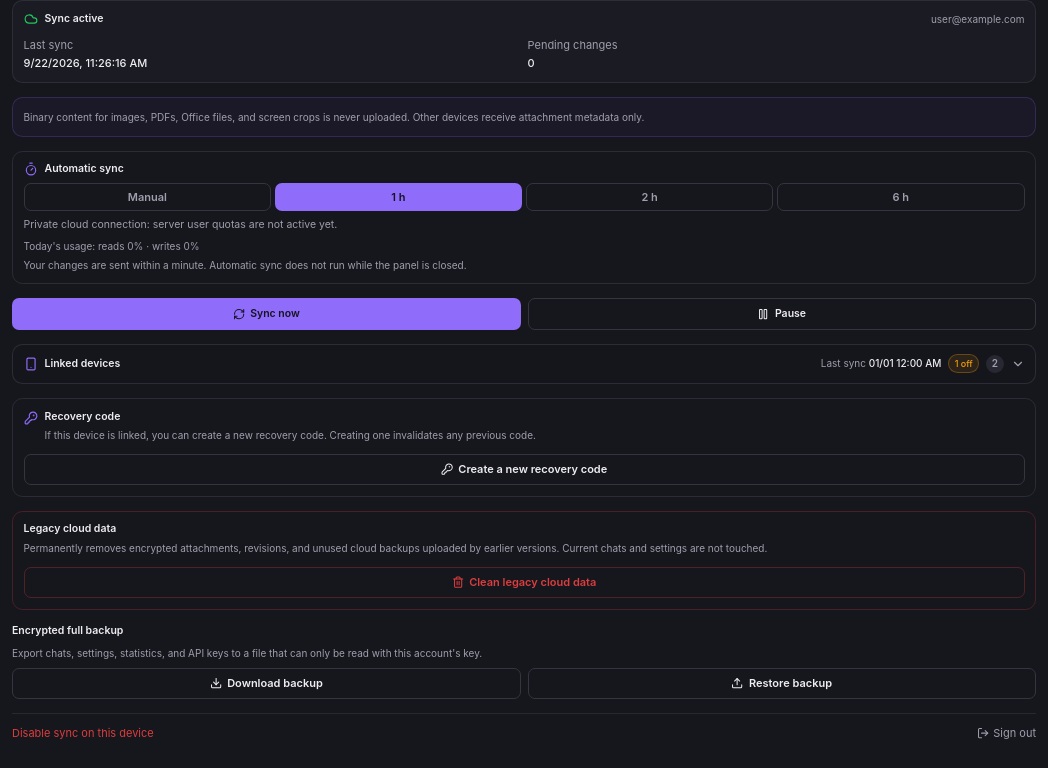
Test: SyncPanel cihaz bölümü katlanır (Varyant A) › başlığa tıklayınca açar, tekrar tıklayınca kapatır
The image size is (1048, 768).
Click the button "Linked devices".
click(82, 363)  # box [13, 344, 1035, 383]
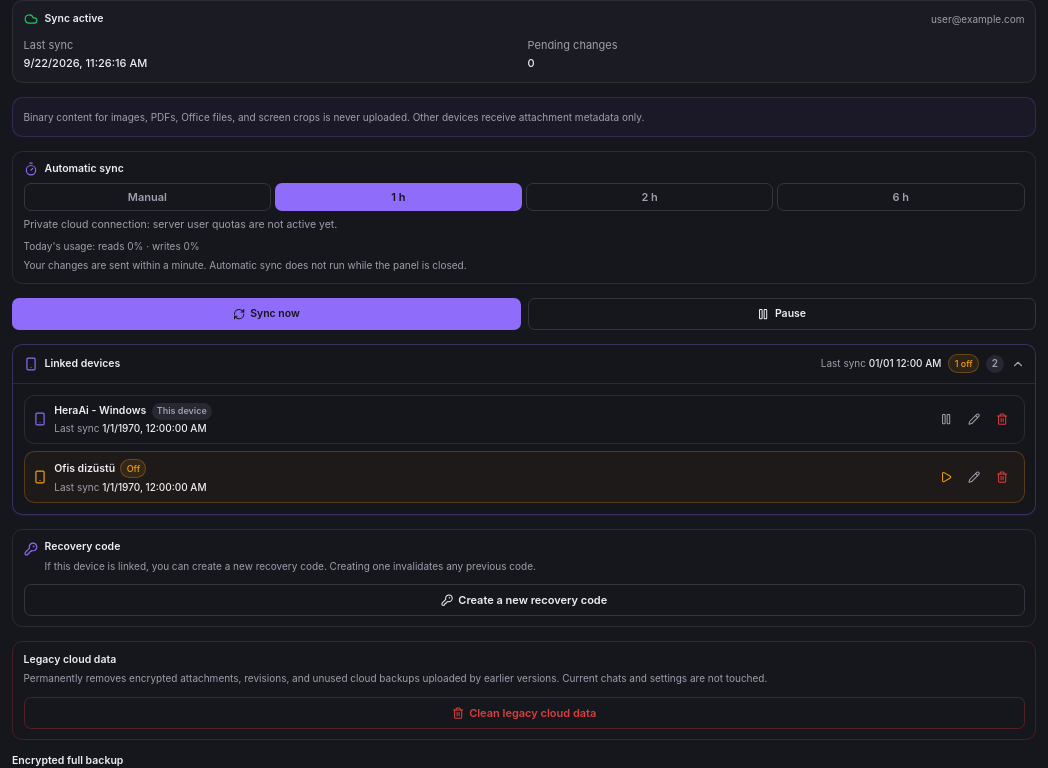
Now the text "HeraAi - Windows" is shown, box [54, 404, 146, 418]
Now the button "Linked devices" is expanded
Now the element with id "devices-panel" is shown, box [13, 383, 1035, 514]
Click the button "Linked devices".
click(82, 363)  # box [13, 344, 1035, 383]
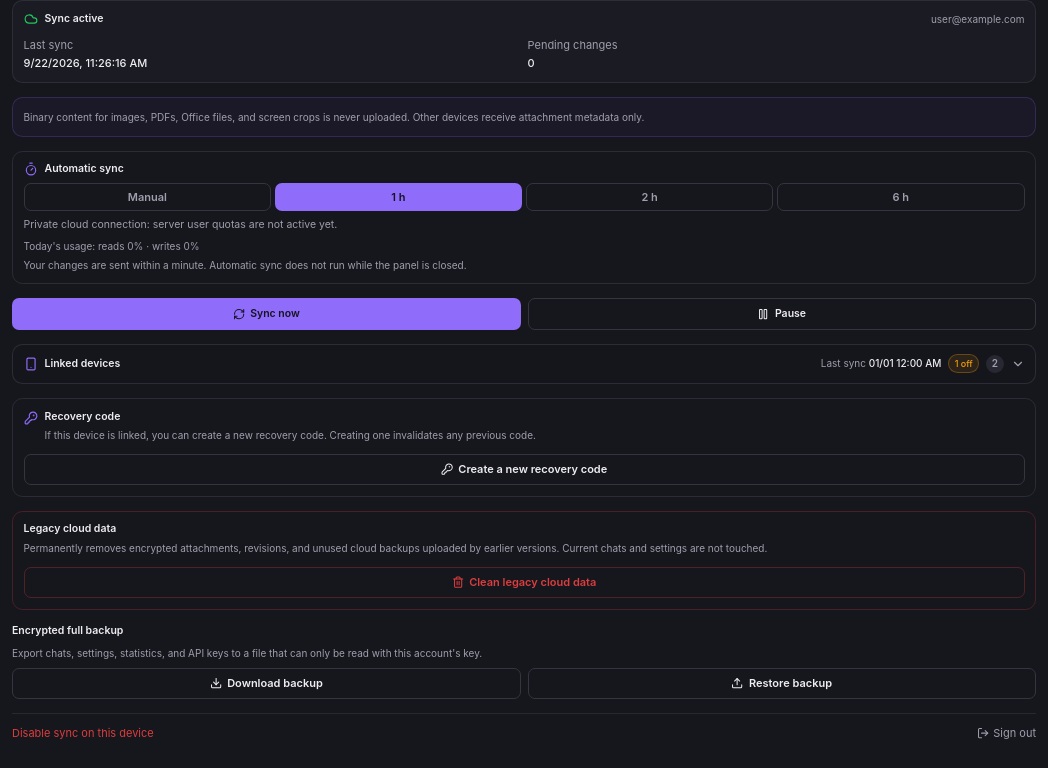
Now the text "HeraAi - Windows" is gone
Now the button "Linked devices" is collapsed, box [13, 344, 1035, 383]
Now the element with id "devices-panel" is gone
